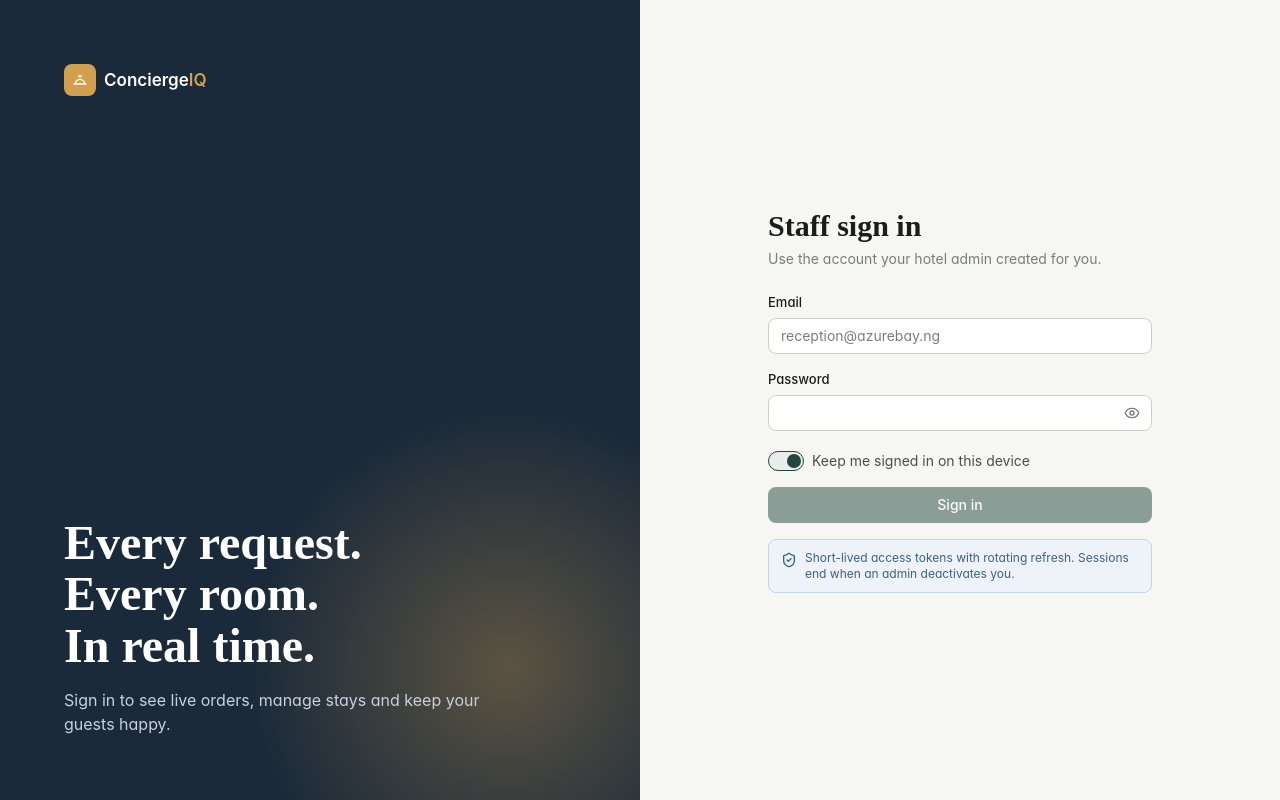
Test: loading state › disables the submit button while the login request is in flight
The image size is (1280, 800).
expect the heading "Staff sign in" is shown: met, box left=768, top=209, right=921, bottom=242
Type "amaka@azurebay.test" into the field labelled "Email" at (960, 336), box left=768, top=318, right=1152, bottom=354
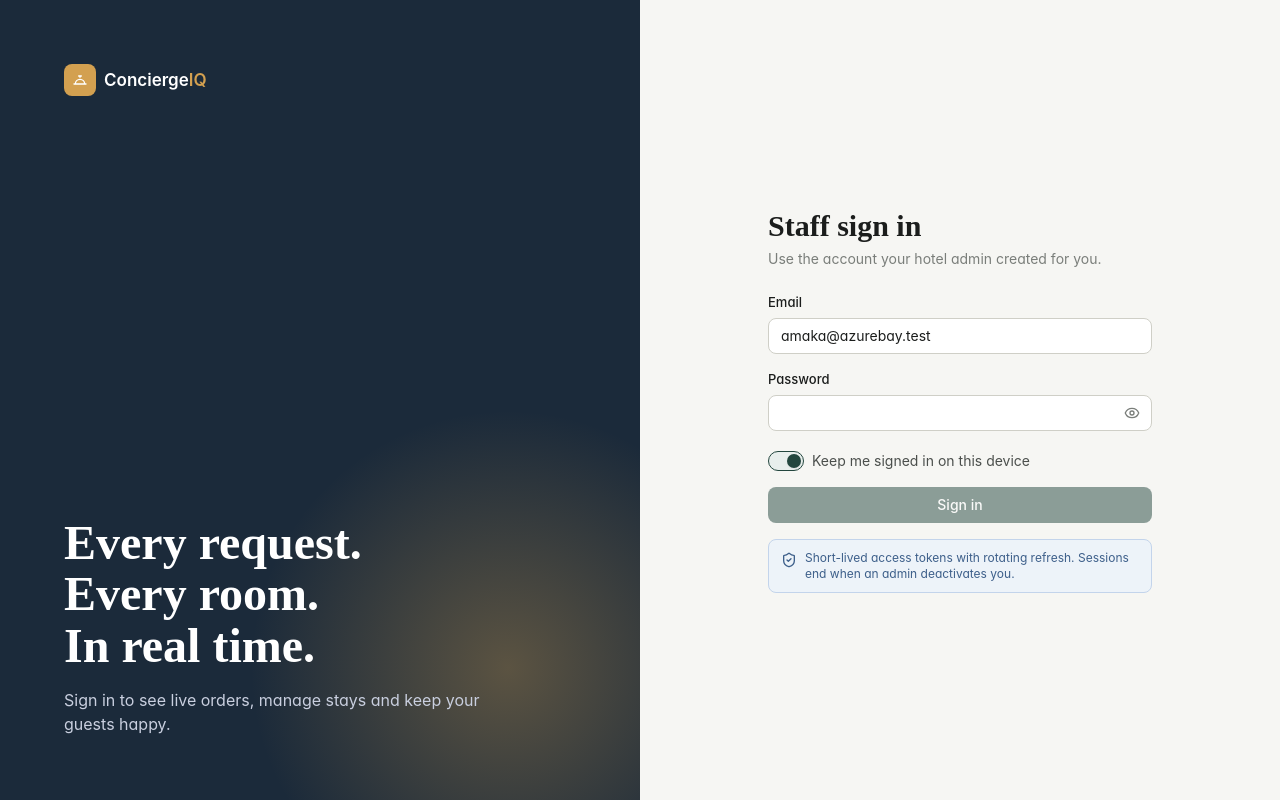
Type "ChangeMe123!" into the password field labelled "Password" at (960, 413), box left=768, top=395, right=1152, bottom=431
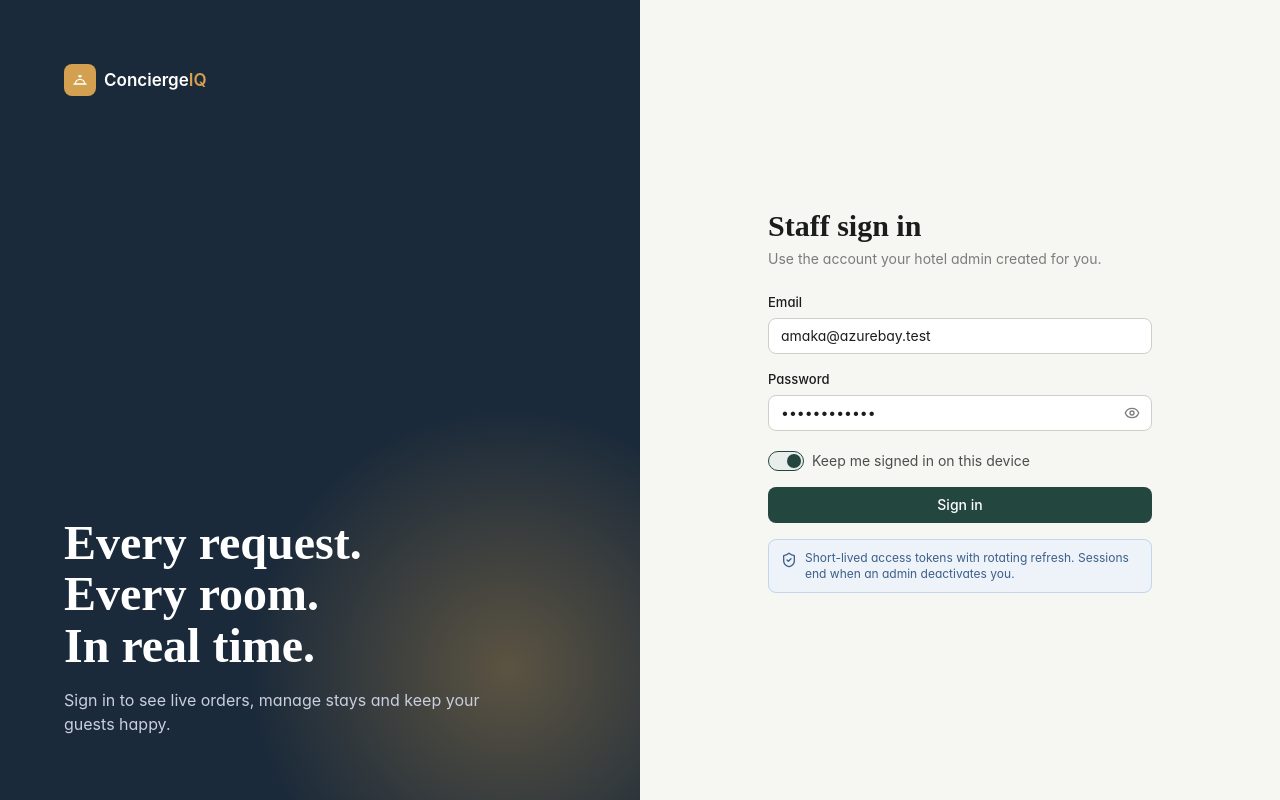
expect the button "Sign in" is enabled: met
Click the button "Sign in" at (960, 505), box left=768, top=487, right=1152, bottom=523
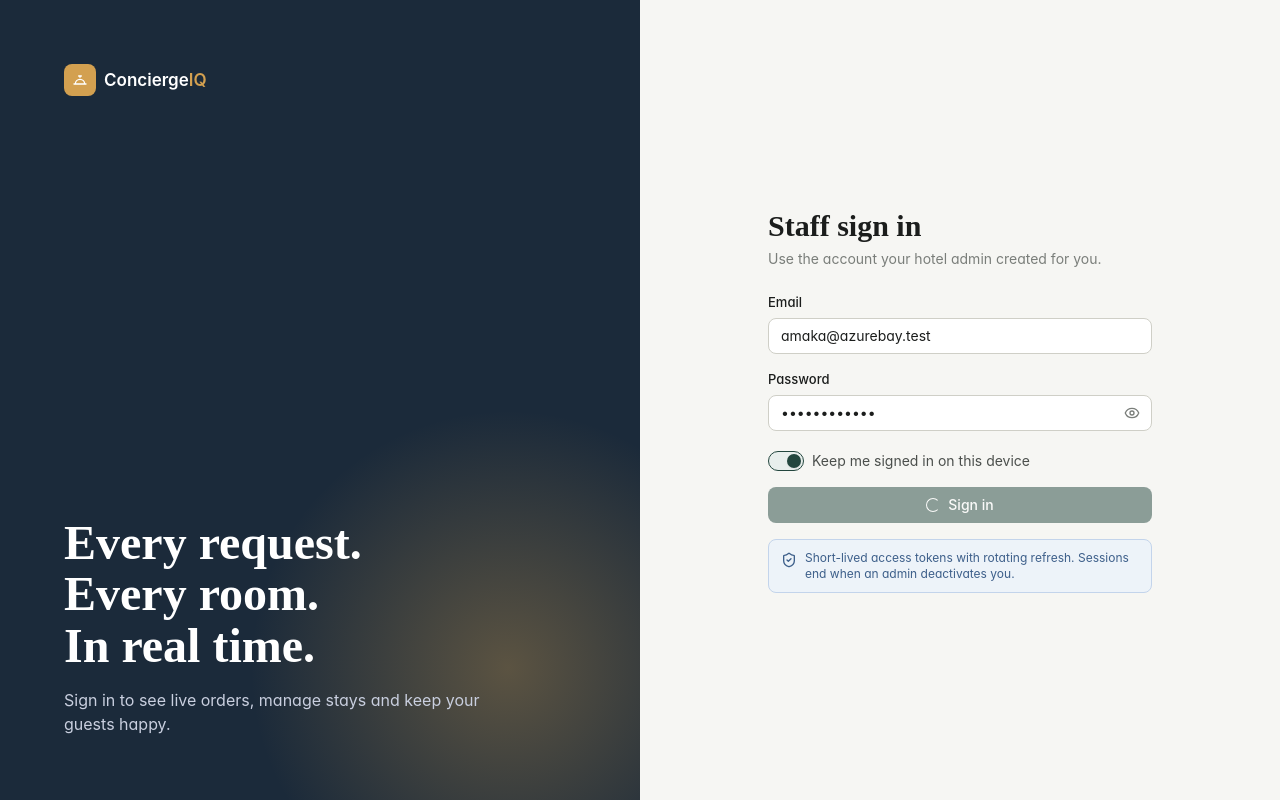
expect the button "Sign in" is disabled: met, box left=768, top=487, right=1152, bottom=523
